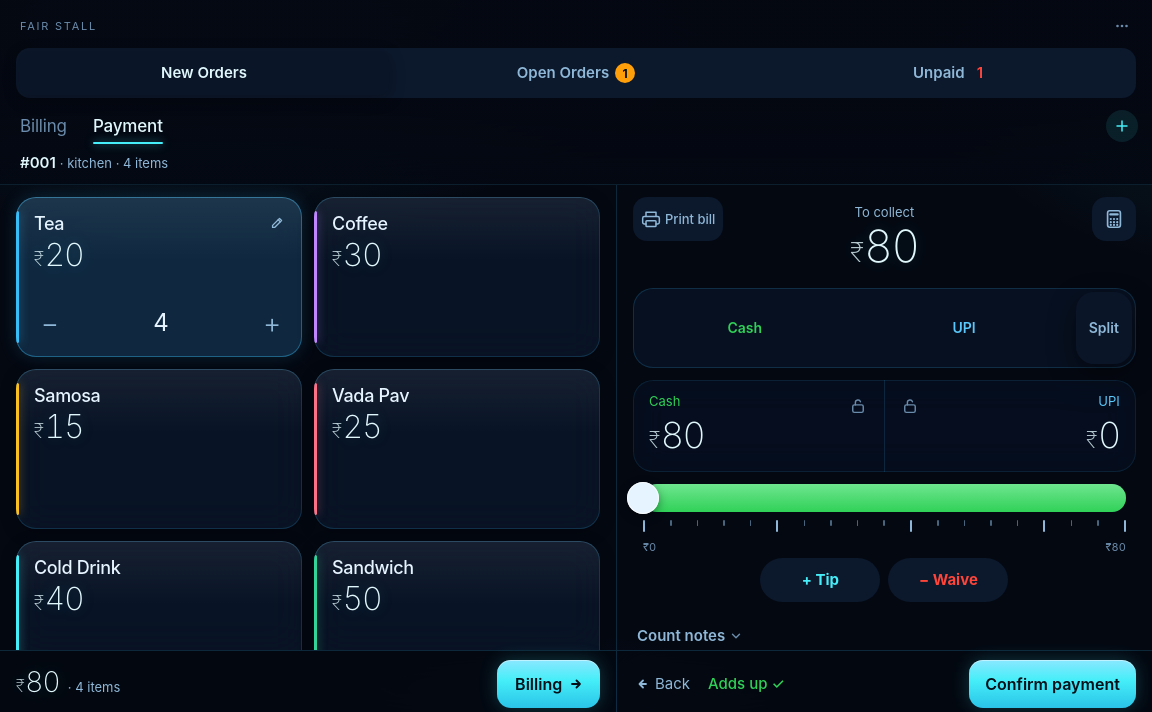
Scenario: QR label is tied to the encoded link (F-15) › shows paise when the link has them, and the ID when it has dots, a hyphen and an underscore
The width and height of the screenshot is (1152, 712).
Earlier steps of the test are not shown.
Click the button named "Calculator". click: (1114, 219)
box: x1=1092 y1=197 x2=1136 y2=241
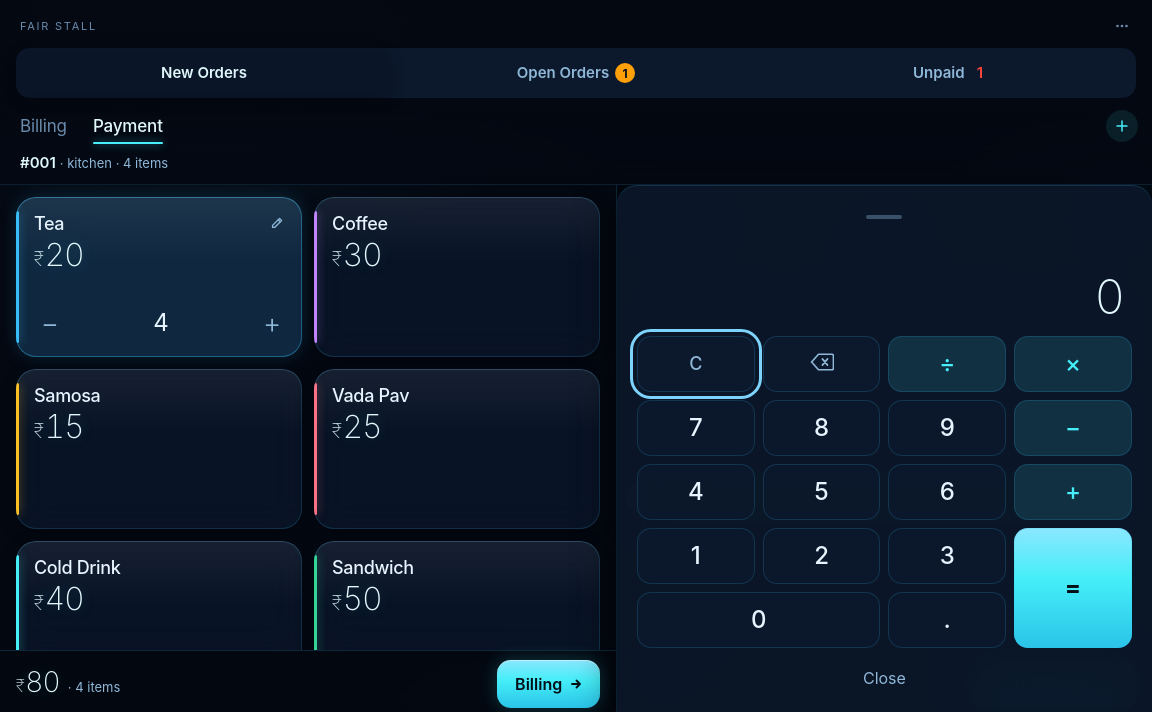
Click the button "1". click: (696, 556)
box: x1=637 y1=528 x2=755 y2=584
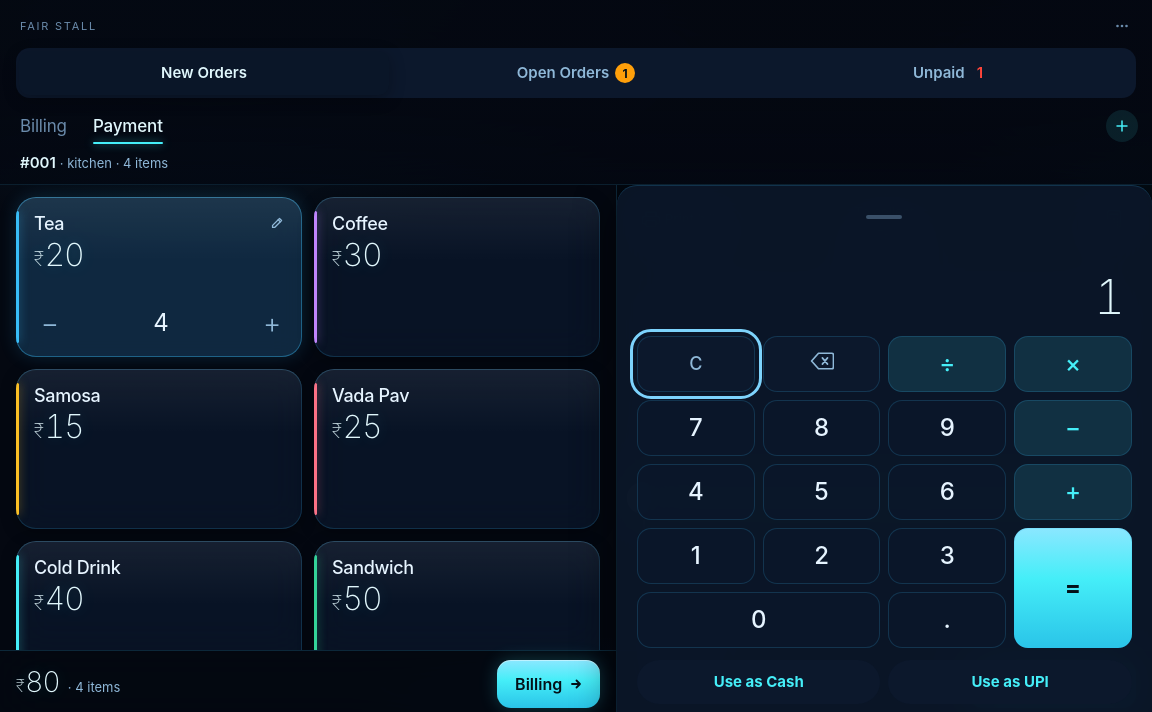
Click the button "0". click: (759, 620)
box: x1=637 y1=592 x2=881 y2=648
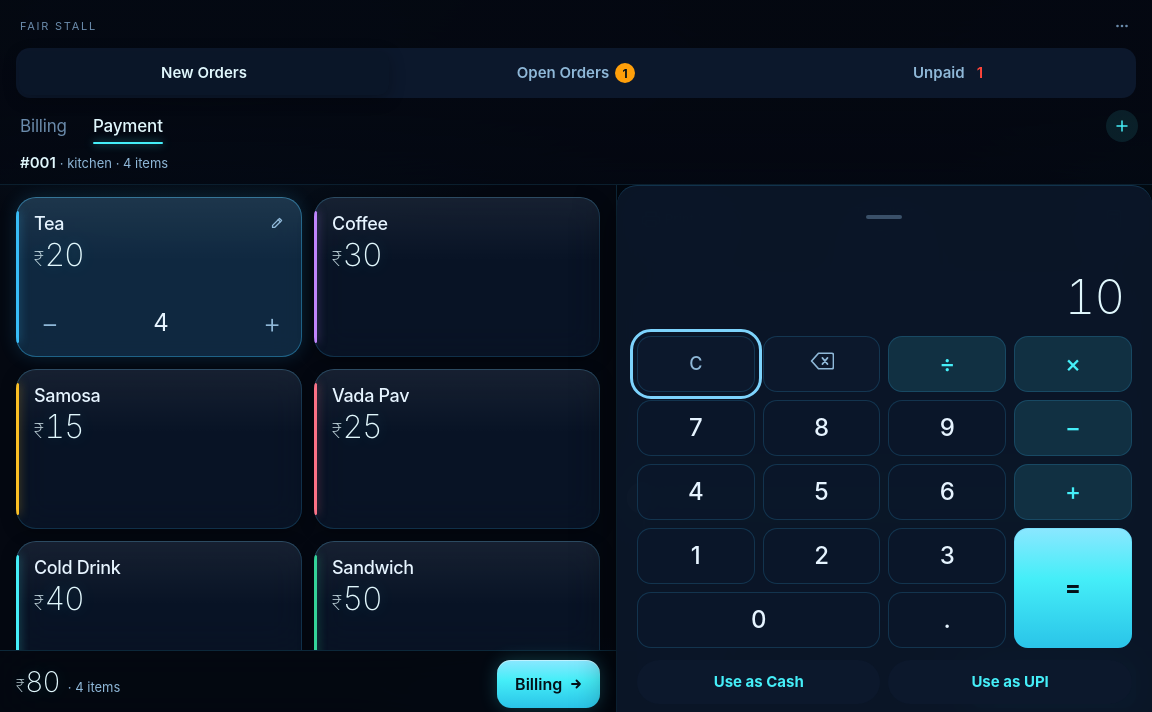
Click the button named "Point". click: (947, 620)
box: x1=889 y1=592 x2=1006 y2=648
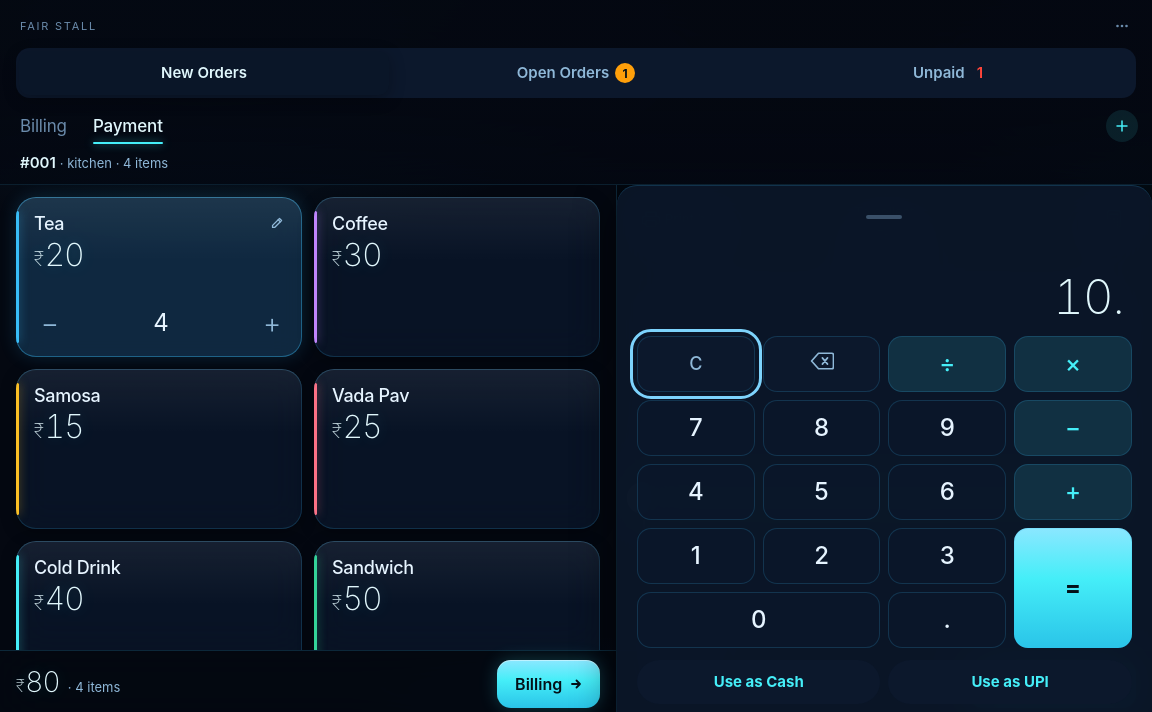
Click the button "5". click: (822, 492)
box: x1=763 y1=464 x2=881 y2=520
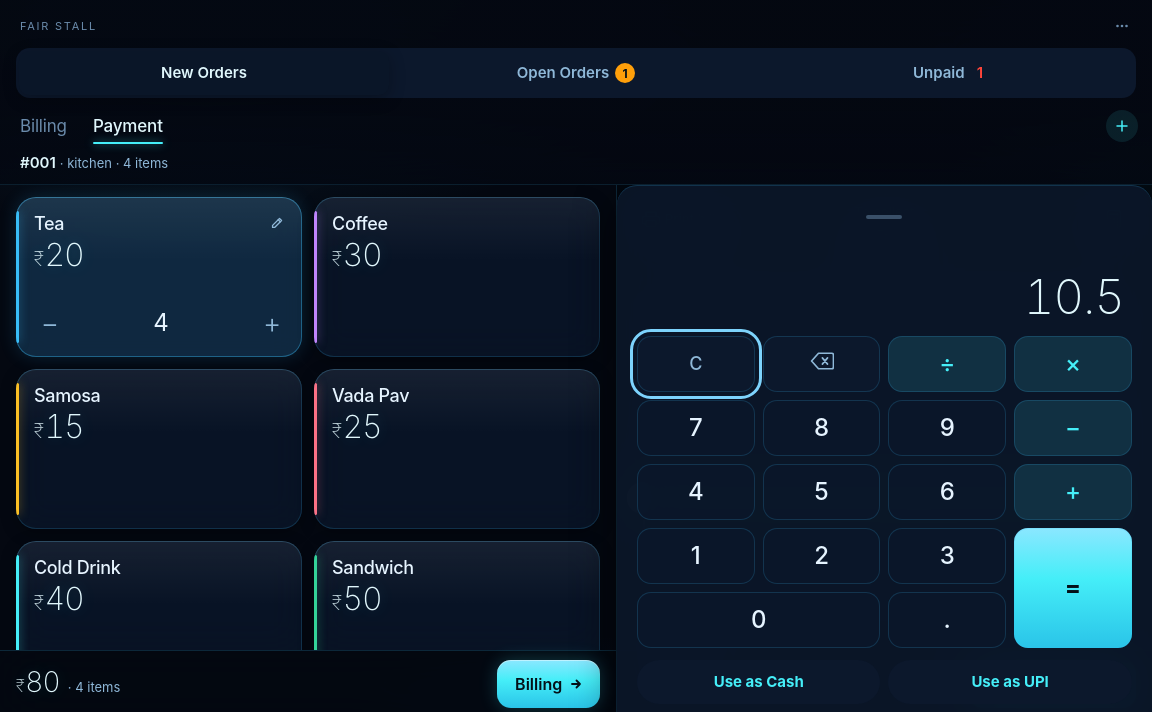
Click the button "Use as UPI". click: (1010, 682)
box: x1=889 y1=660 x2=1132 y2=704
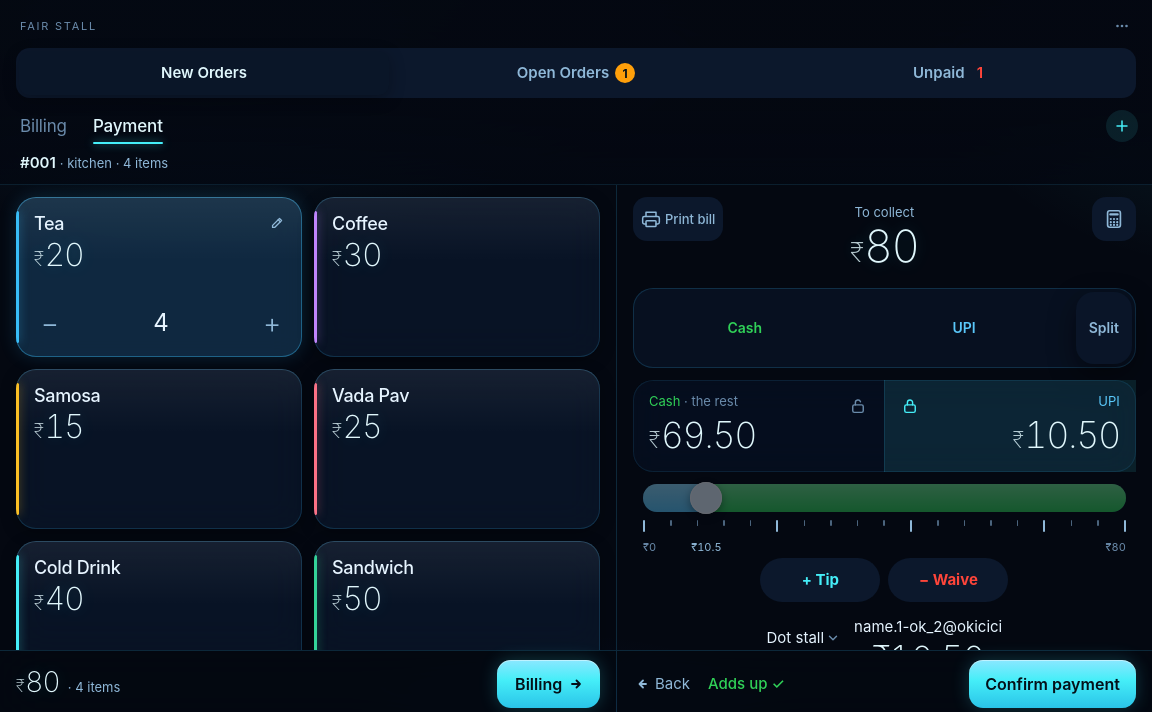
Expected: the text "name.1-ok_2@okicici" is shown, x1=854 y1=616 x2=1002 y2=638
